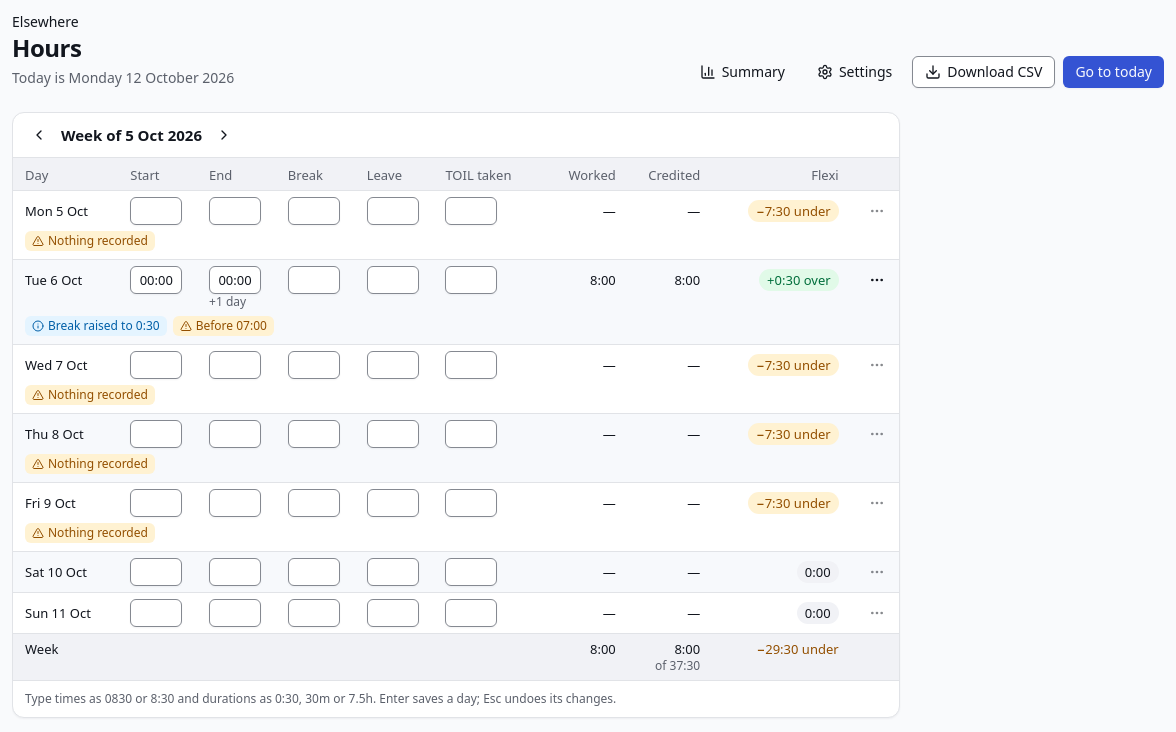
it: WeekView › keeps the browser's own menu on a row with no actions
Expected: the heading "Hours" is shown, [12, 31, 81, 64]
Expected: the field named "Start, Mon 5 Oct" is shown, [130, 196, 182, 224]
Nothing on Monday: the event is left alone (not cancelled), and no menu opens.
Right-click the row "Mon 5 Oct — — −7:30 under" at (456, 210), box [13, 190, 899, 230]
Tuesday has a saved day, so its row opens the row menu instead.
Right-click the row "Tue 6 Oct +1 day 8:00 8:00 +0:30 over" at (456, 287), box [13, 259, 899, 316]
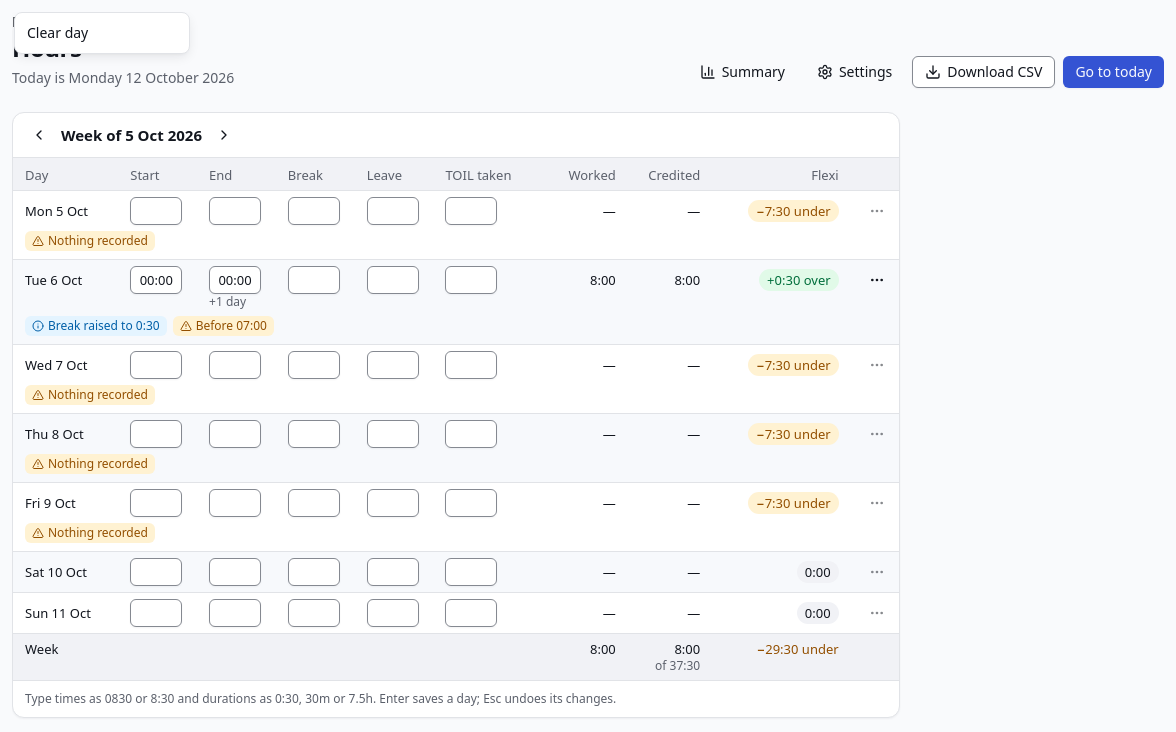
Expected: the menu item "Clear day" is shown, [27, 23, 88, 42]
